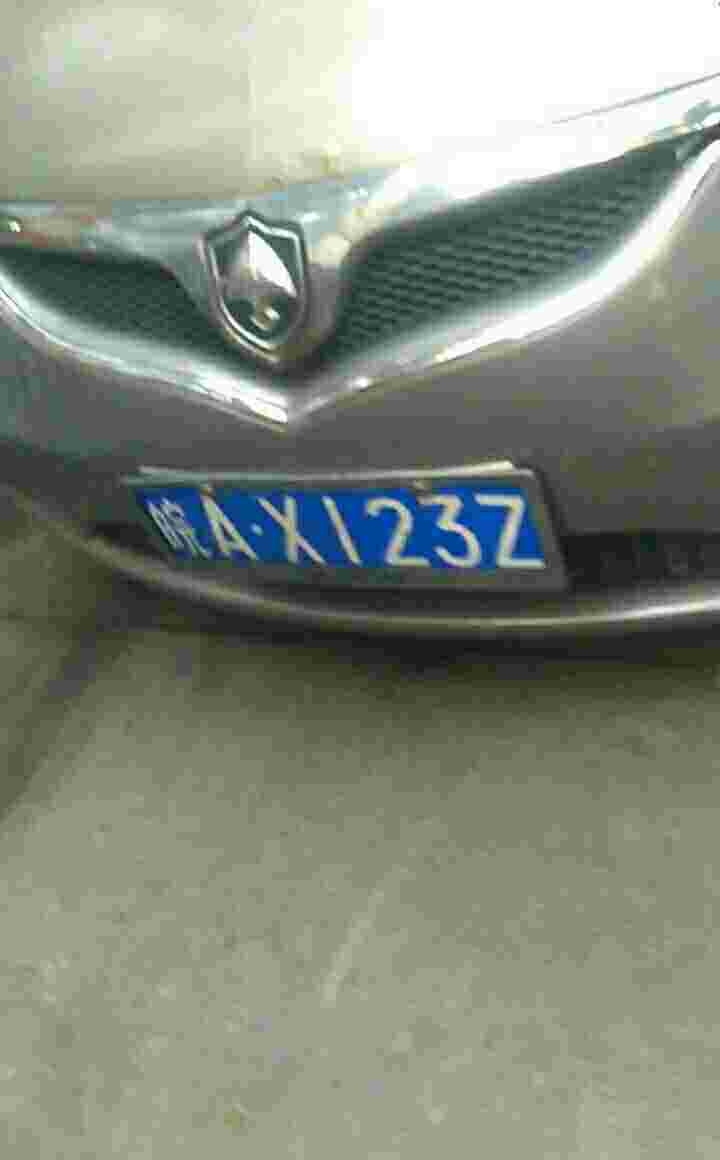car: (132, 475, 574, 589)
